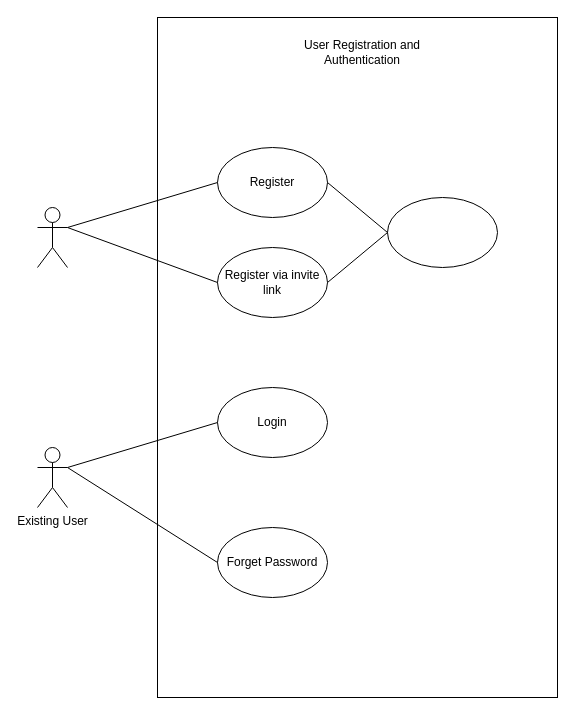
The diagram is 575 pixels wide and 715 high, and some of its shapes have lost their labels. Each missing label, with the centre of its shape:
"2FA OTP" belongs at point (442, 232).
"New User" belongs at point (52, 237).
